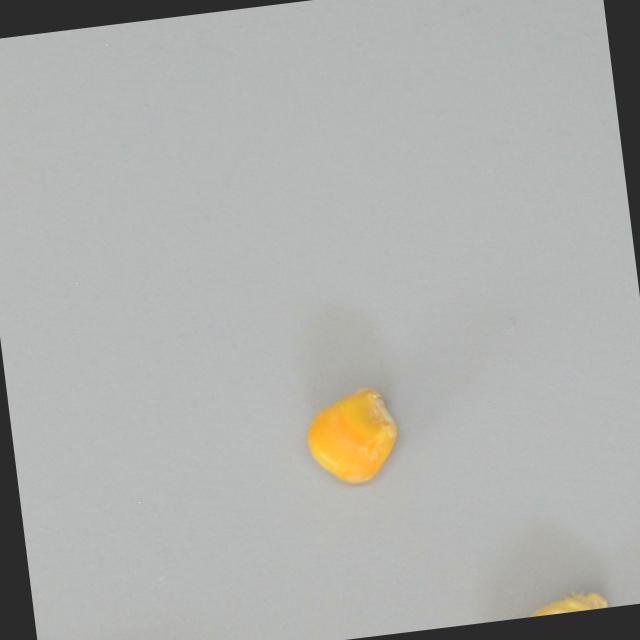entero: (464, 579, 616, 624)
pelicula: (297, 377, 408, 492)
